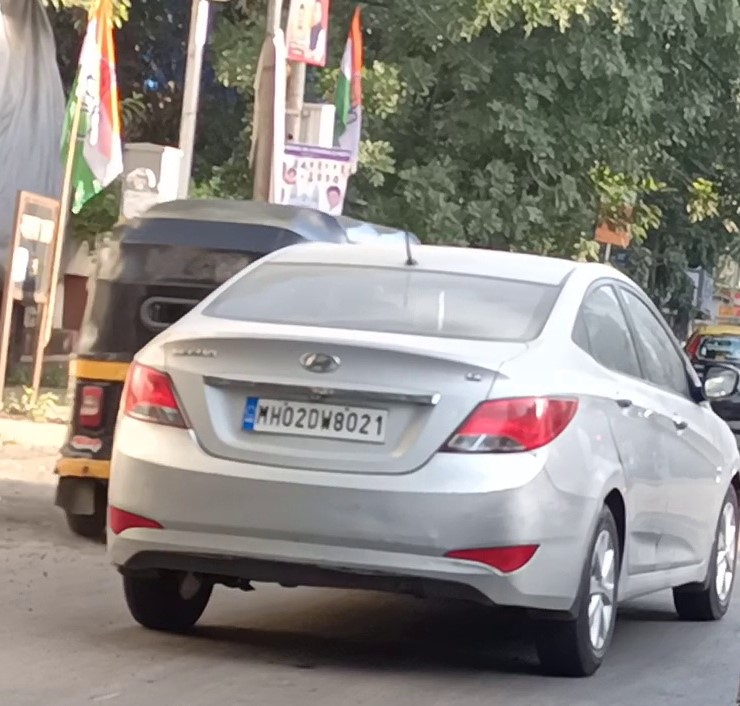MH02DW8021: (243, 397, 388, 442)
